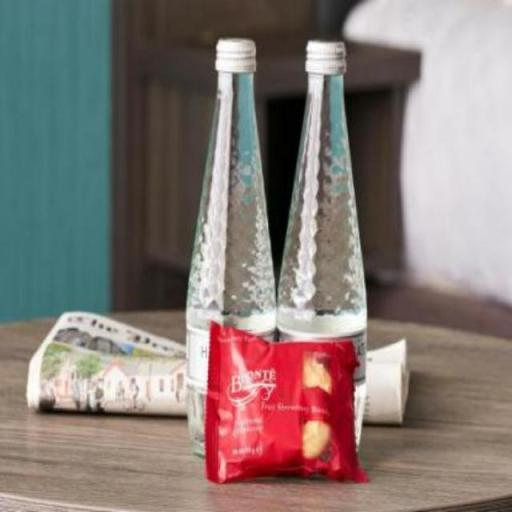Coca: (272, 38, 370, 477), (184, 33, 278, 466)
